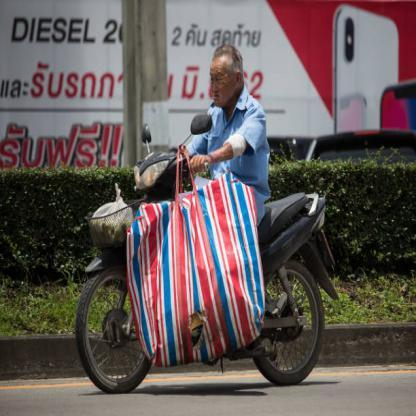Motorcycle: (80, 140, 335, 400)
